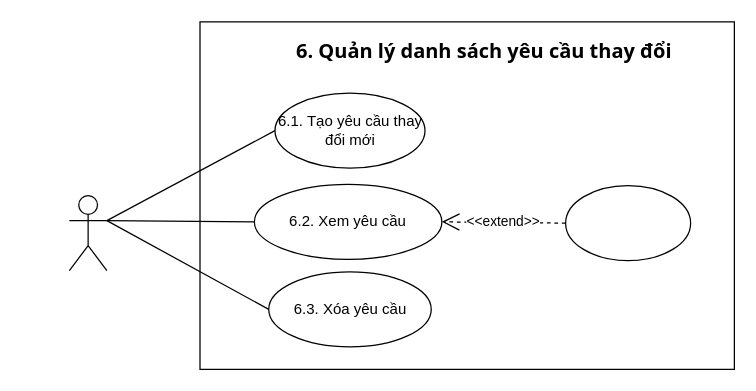
The diagram is 756 pixels wide and 391 high, and some of its shapes have lost their labels. The centre of each missing label's shape, as x and y in pixels:
4. Quản lý đơn hàng: the point at 627,222
Nhân viên bán hàng: the point at 87,232
